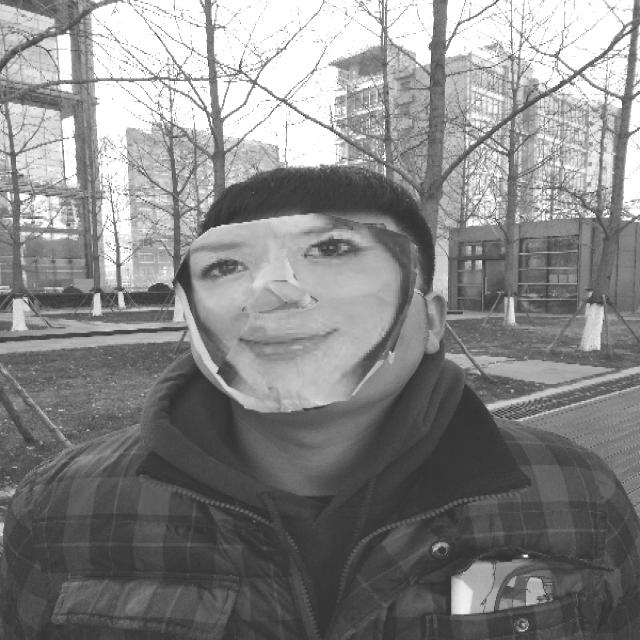fake: (170, 154, 435, 426)
